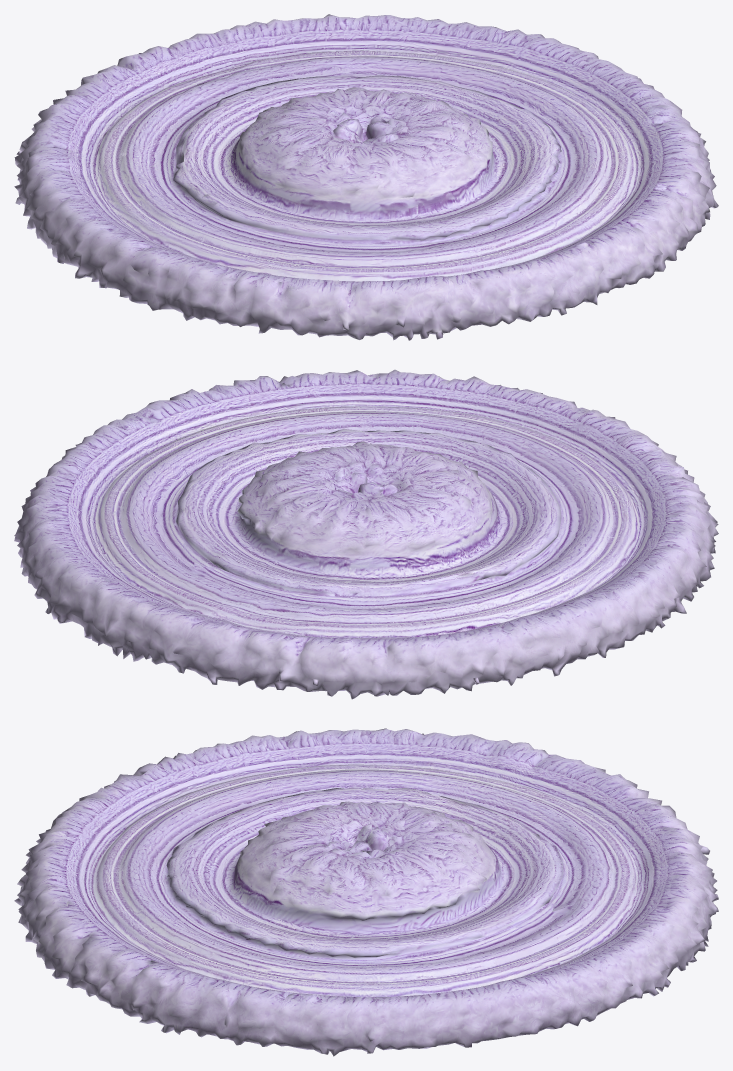
The model's file is Meshy_AI_A_soft_fluffy_round_r_0518215755_texture.fbx.
The picture shows the model from 3 angles, top to bottom: view 1: azimuth 30°, elevation 25°; view 2: azimuth 150°, elevation 25°; view 3: azimuth 270°, elevation 25°; orthographic projection.
Visible parts, largest first — view 1: Mesh_0; view 2: Mesh_0; view 3: Mesh_0.
Part boxes in pixels (<box>): Mesh_0: <box>14,14,718,340</box>; Mesh_0: <box>14,369,718,699</box>; Mesh_0: <box>14,728,718,1056</box>.
Size of the model in its own units: 190 by 27.01 by 190.
Materials: 1 (1 with a texture image).
